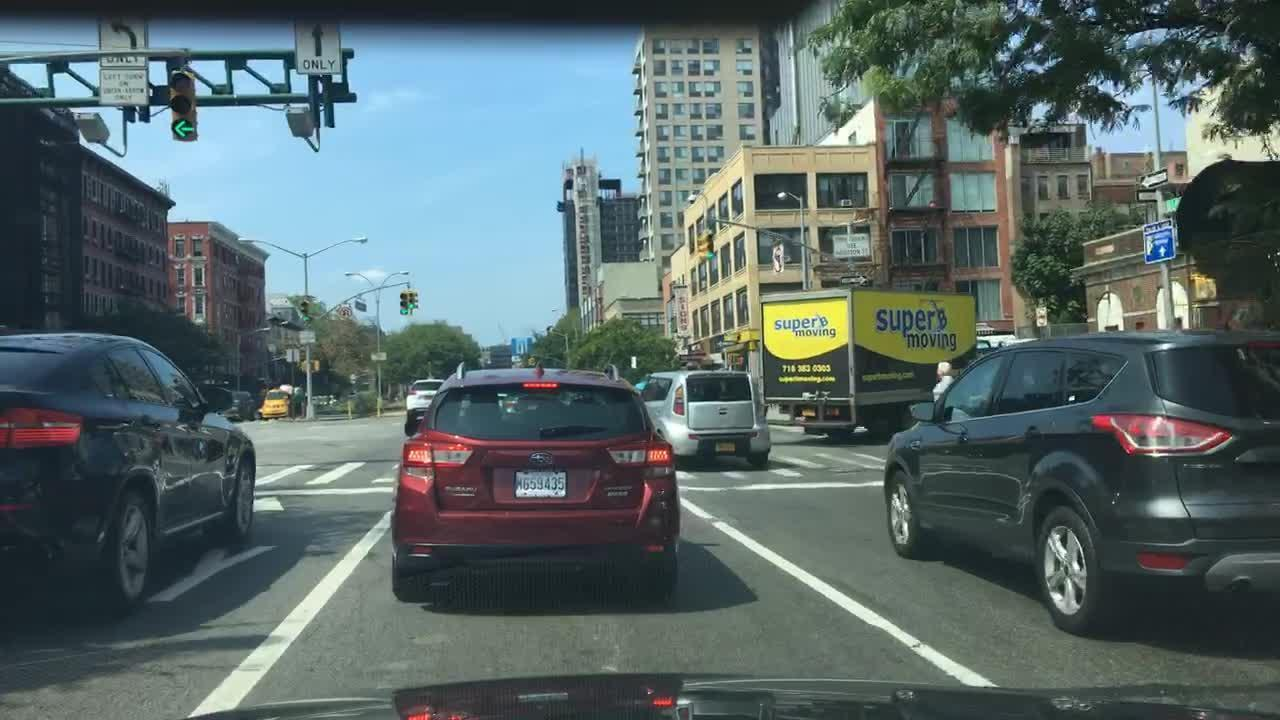subaru: (529, 448, 557, 467)
